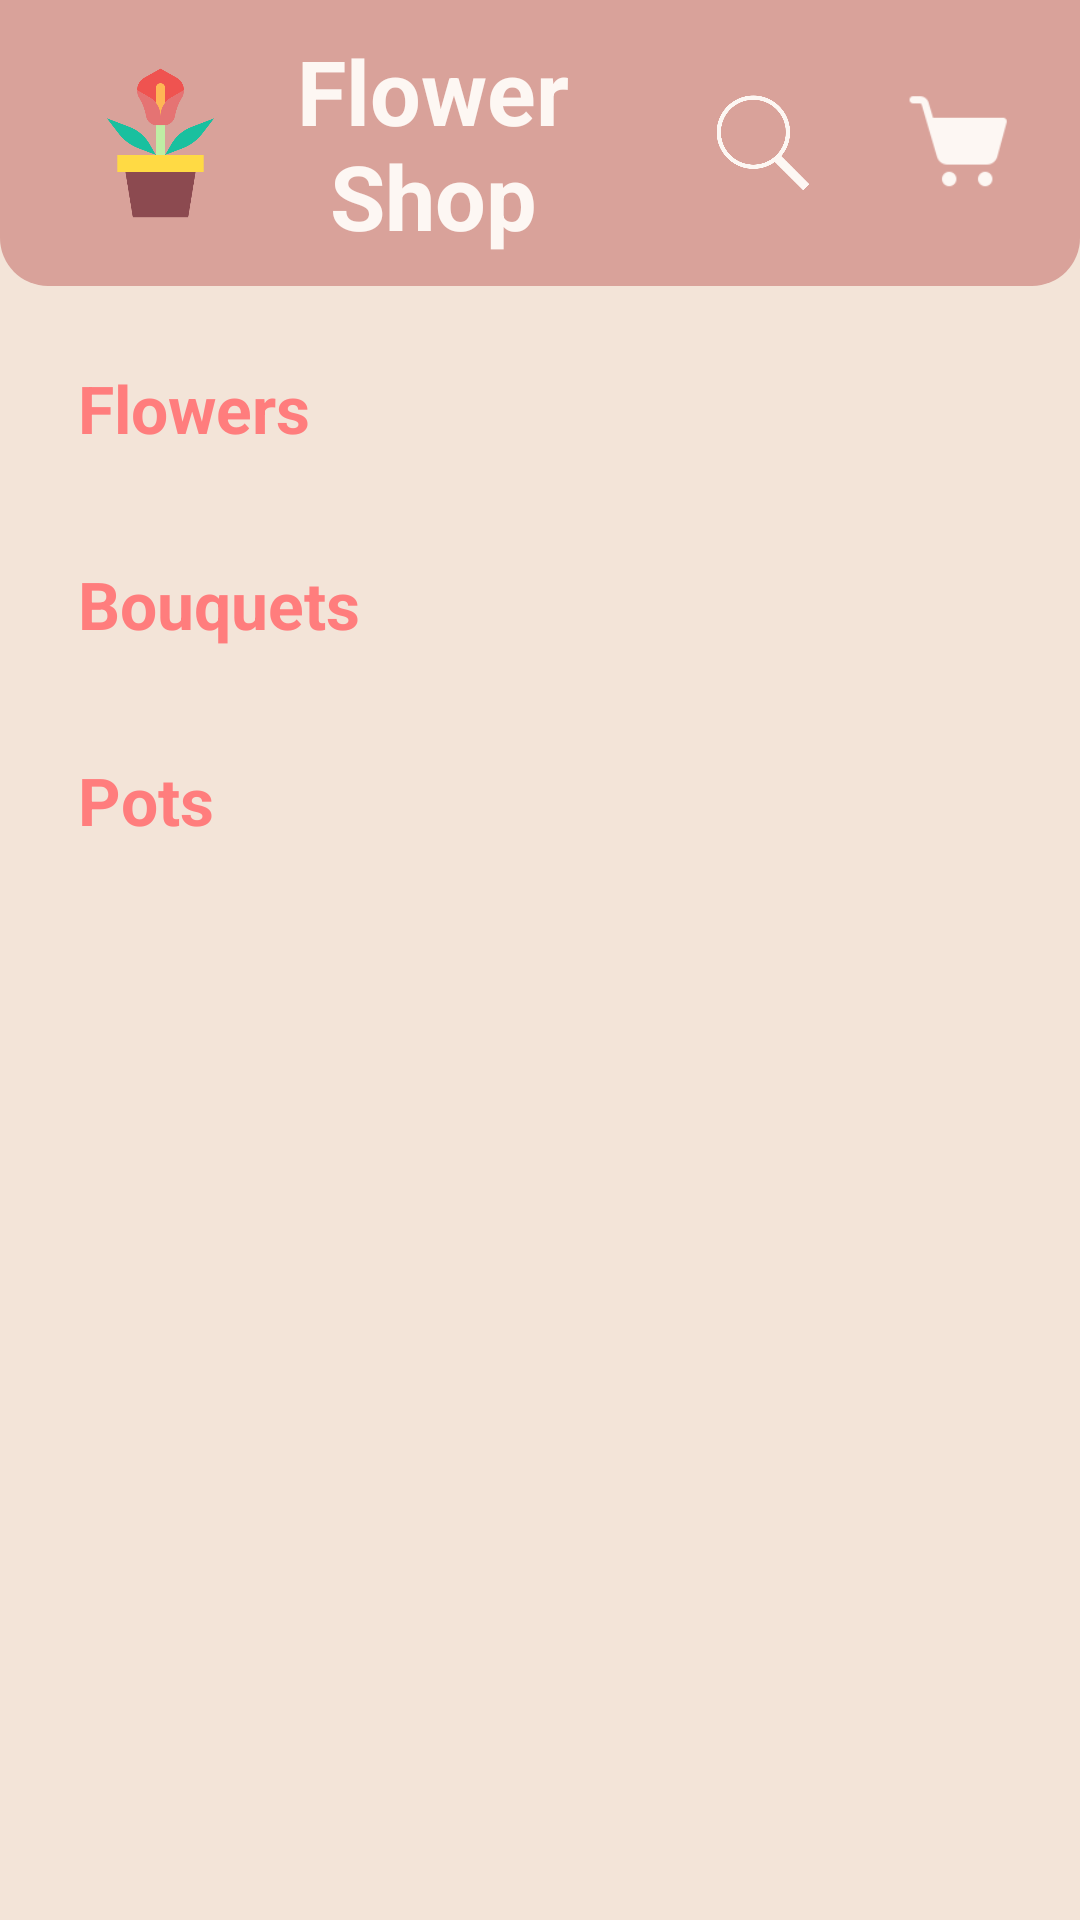

Icons on this 1080x1920 Android screen, each with its box as [x1, y1, x2, y2]:
cart: [909, 96, 1007, 186]
Open Search Page: [717, 95, 809, 190]
